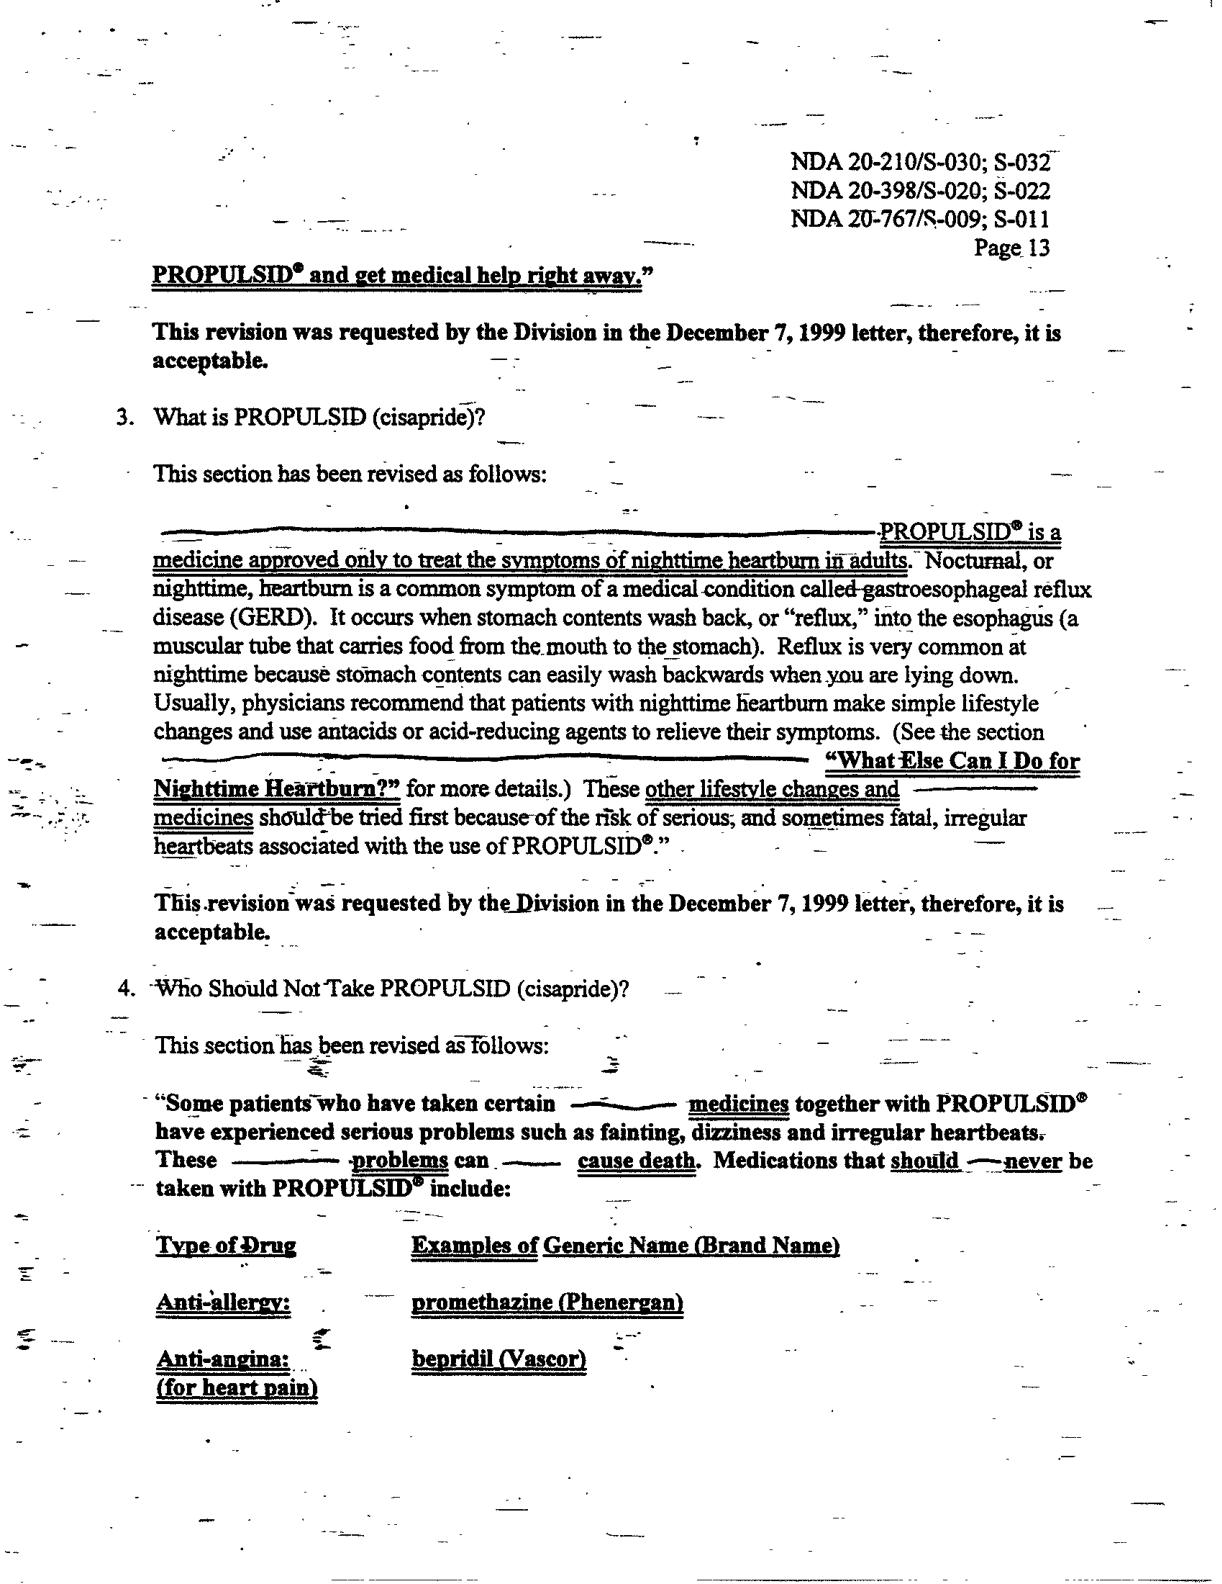nolines: (151, 1234, 843, 1408)
